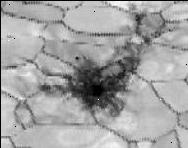good_void: (38, 42, 140, 117), (132, 10, 146, 24), (149, 28, 165, 39), (140, 37, 151, 45)
